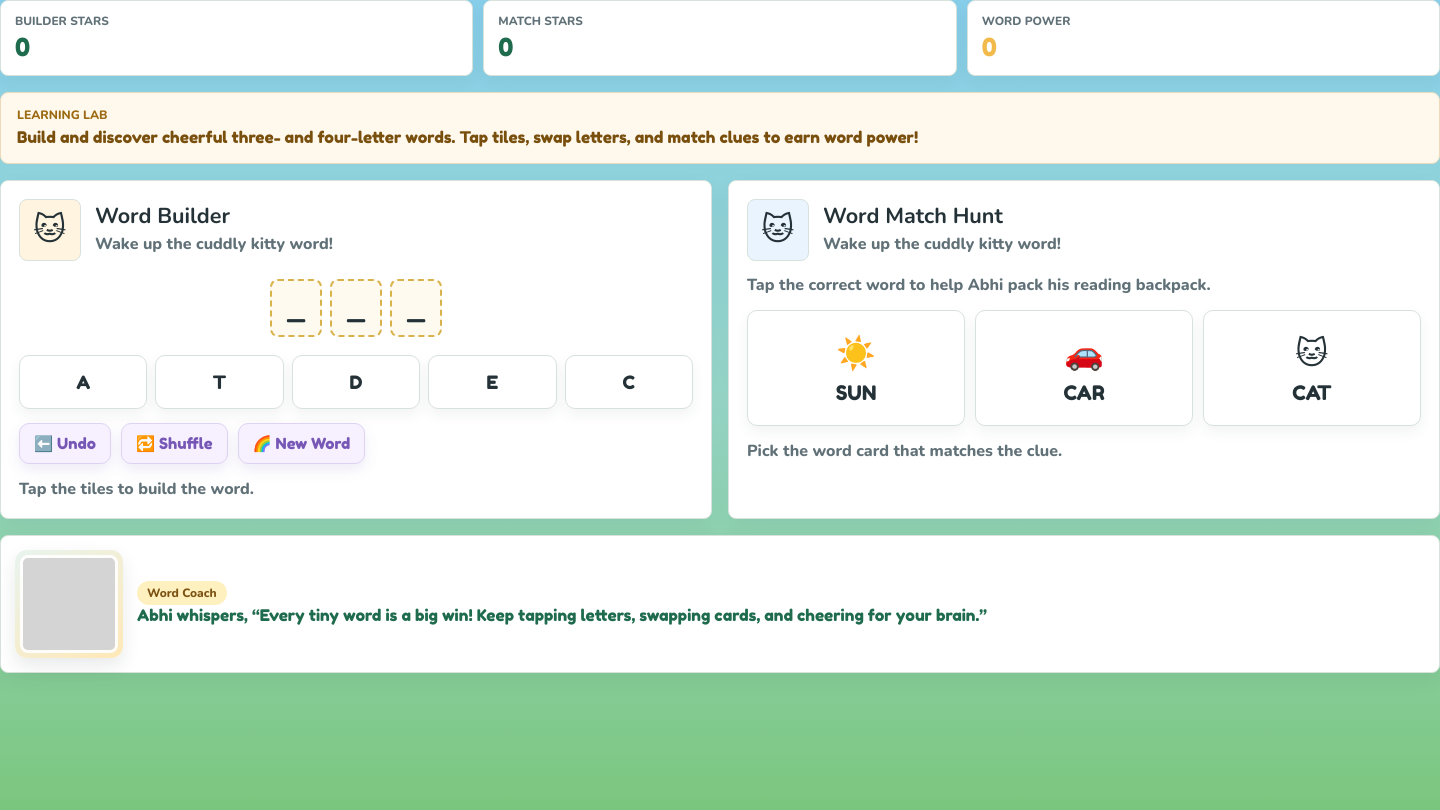
Test case: LearningLab › undoes the last placed tile so kids can fix mistakes
Click the button "C" at (629, 382), box [565,355,693,409]
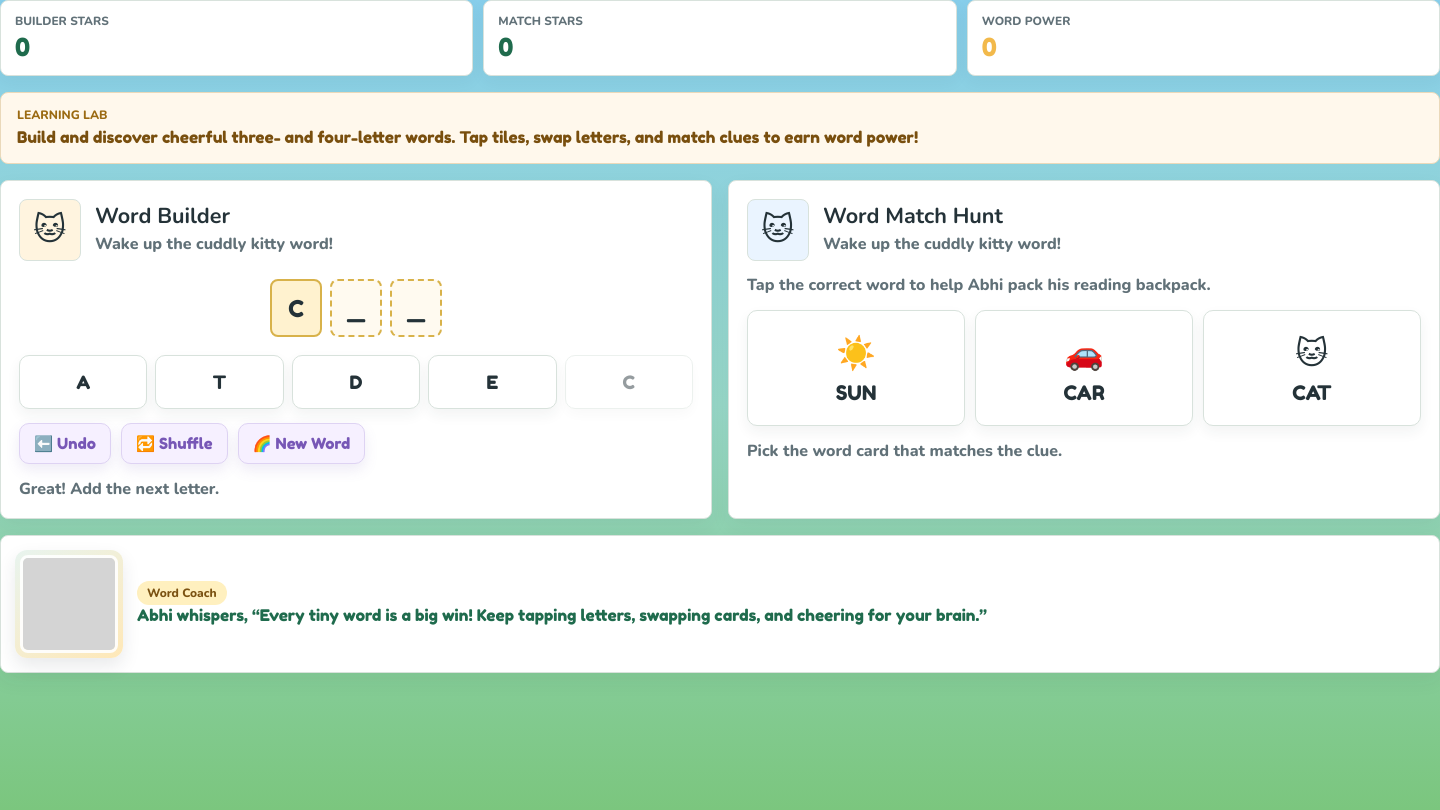
Now the text named "Letter slot 1" reads "C", box [288,294,304,322]
Click the button "⬅️ Undo" at (65, 443), box [19,423,111,464]
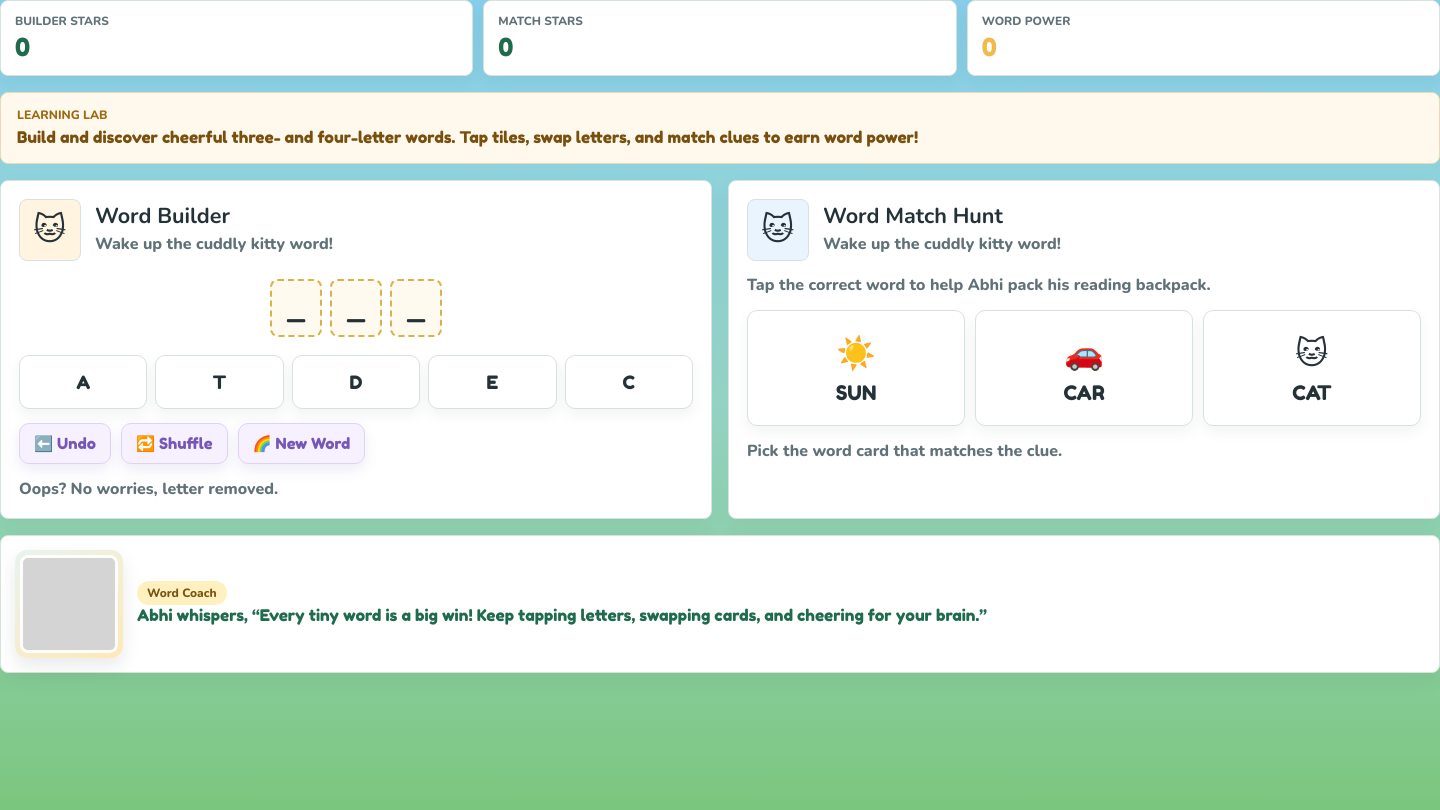
Now the text named "Letter slot 1" reads "_", box [286,294,306,322]
